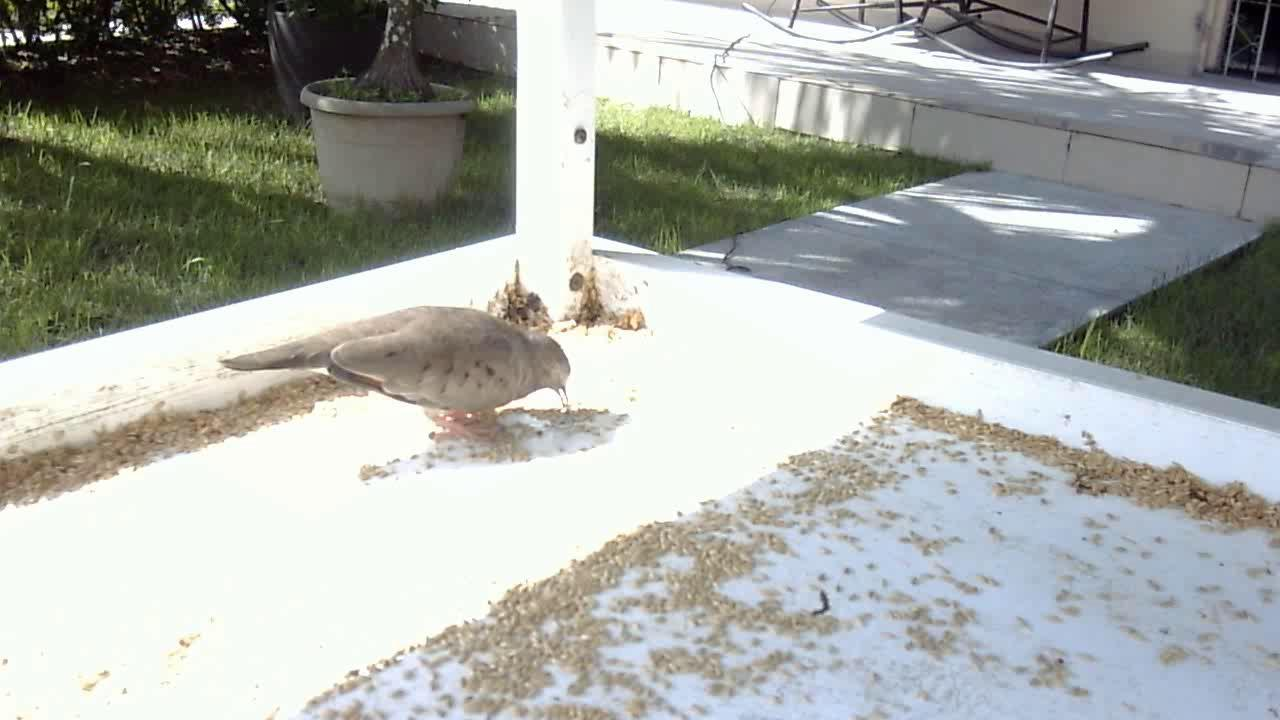rolinha: (208, 296, 580, 447)
